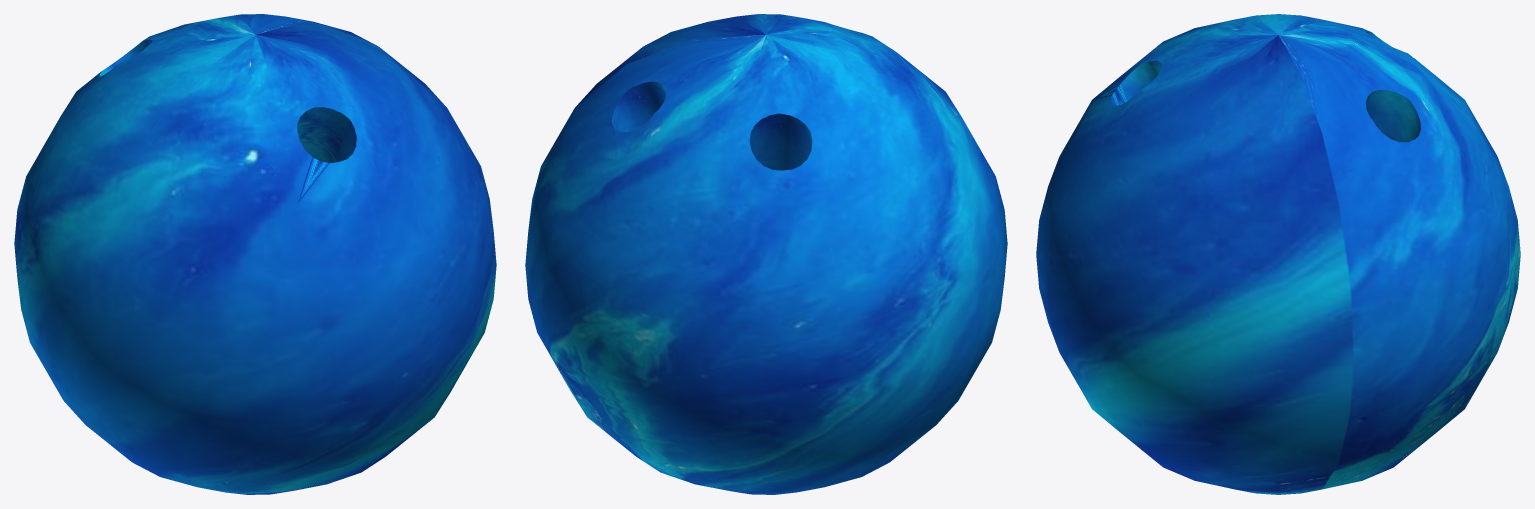
File: BowlingBall.fbx
The picture shows the model from 3 angles, left to right: view 1: azimuth 30°, elevation 25°; view 2: azimuth 150°, elevation 25°; view 3: azimuth 270°, elevation 25°; orthographic projection.
Parts seen in each view (by area): view 1: polySurface1; view 2: polySurface1; view 3: polySurface1.
Part boxes in pixels (x1=…): polySurface1: x1=14, y1=14, x2=496, y2=494; polySurface1: x1=525, y1=14, x2=1007, y2=494; polySurface1: x1=1036, y1=14, x2=1520, y2=494.
Bounding box in the file's own units: 2 × 2 × 2.
